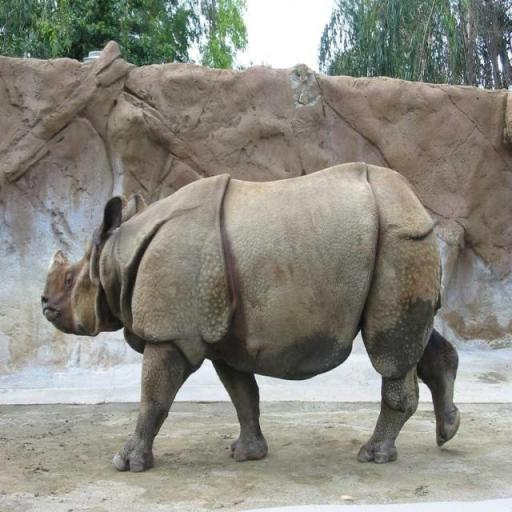Rhino: (40, 159, 462, 473)
